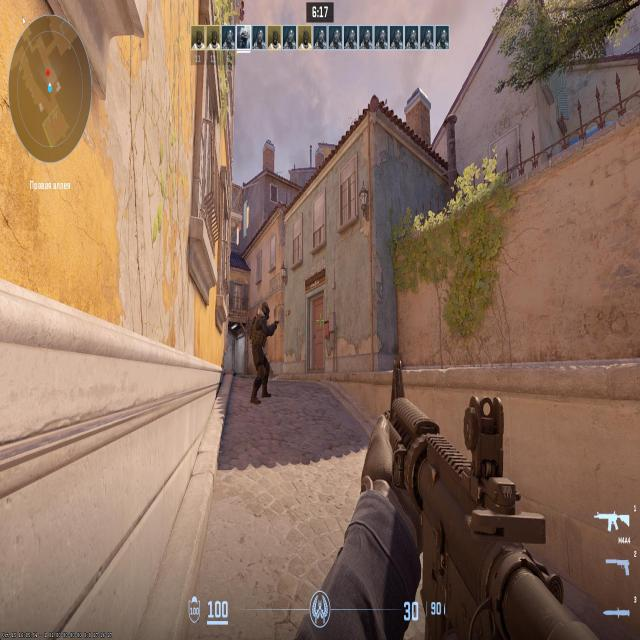CT: (254, 306, 267, 396)
CT_heat: (261, 309, 266, 319)
